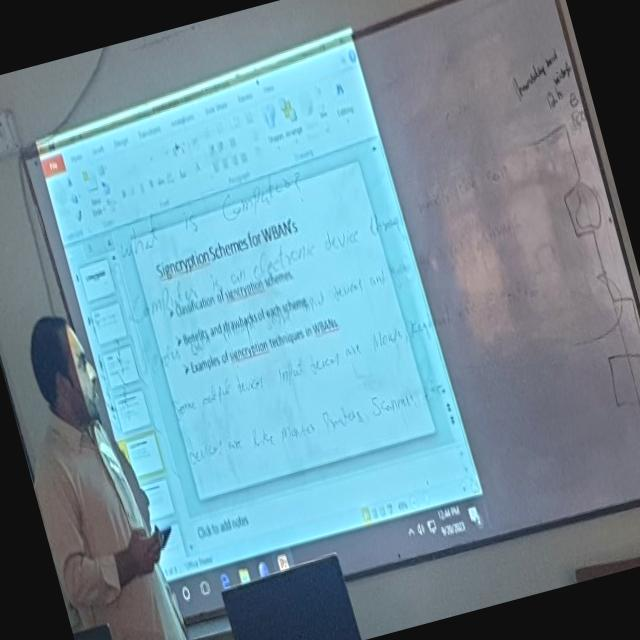Instructor: (8, 300, 200, 640)
Slide: (35, 25, 493, 614)
White-board: (26, 0, 640, 632)
